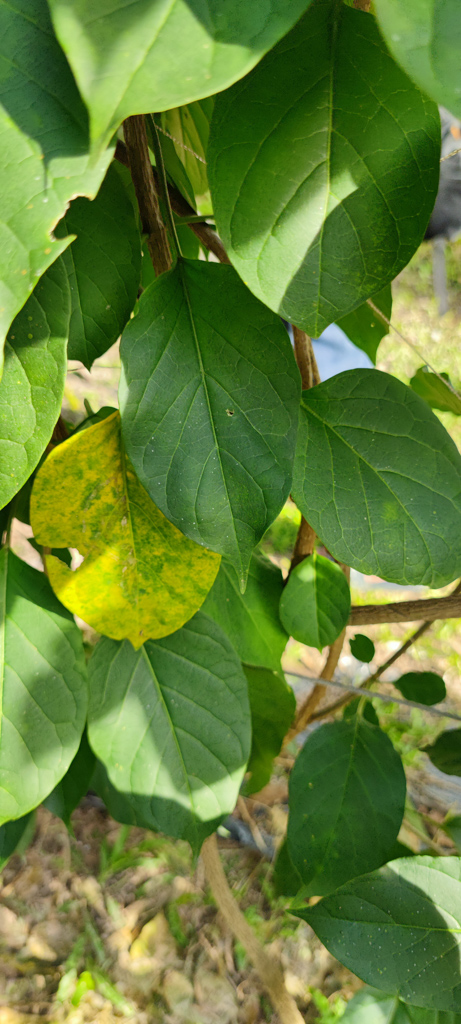Pepper yellow leaf: (29, 411, 230, 655)
